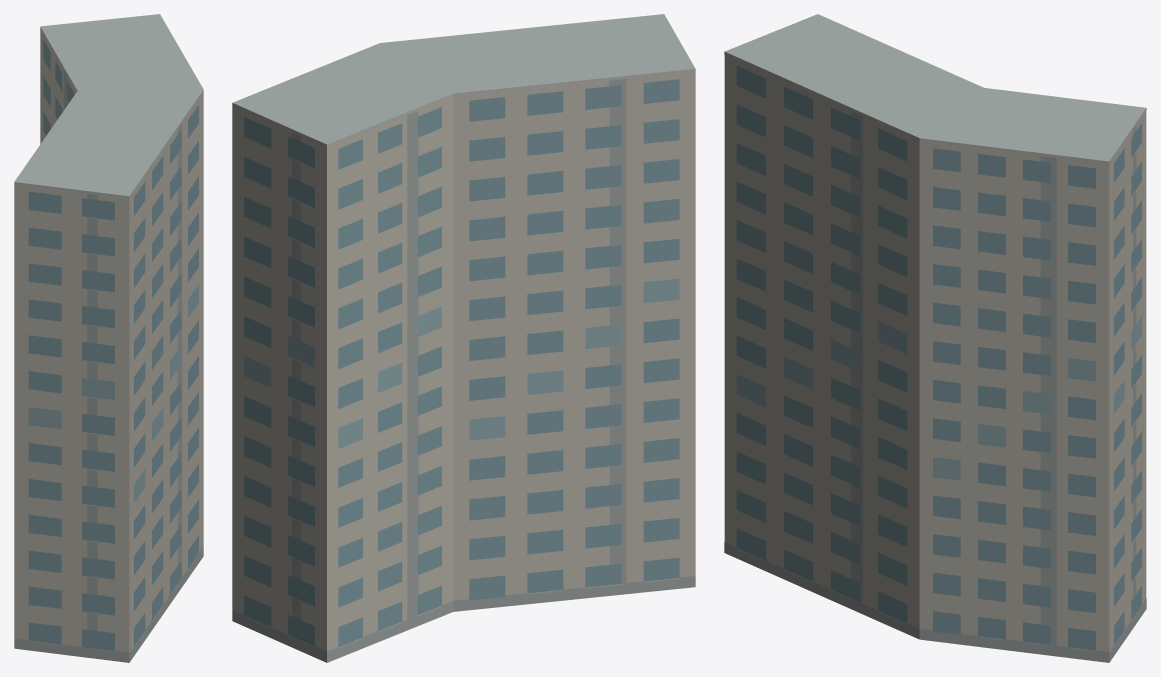
File: residential-4a61f511-8f2b-4da8-866b-e4be107c5100.glb
3 views of the same model, side by side, from view 1: azimuth 30°, elevation 25°; view 2: azimuth 150°, elevation 25°; view 3: azimuth 270°, elevation 25° (orthographic). The views are drawn at different scales.
Visible parts, largest first — view 1: residential-4a61f511-8f2b-4da8-866b-e4be107c5100.tmp; view 2: residential-4a61f511-8f2b-4da8-866b-e4be107c5100.tmp; view 3: residential-4a61f511-8f2b-4da8-866b-e4be107c5100.tmp.
Part boxes in pixels (x1,y1,x2,y2): residential-4a61f511-8f2b-4da8-866b-e4be107c5100.tmp: (14, 14, 203, 662); residential-4a61f511-8f2b-4da8-866b-e4be107c5100.tmp: (232, 14, 695, 662); residential-4a61f511-8f2b-4da8-866b-e4be107c5100.tmp: (724, 14, 1146, 662).
Size of the model in its own units: 25.02 by 39.65 by 30.24.
